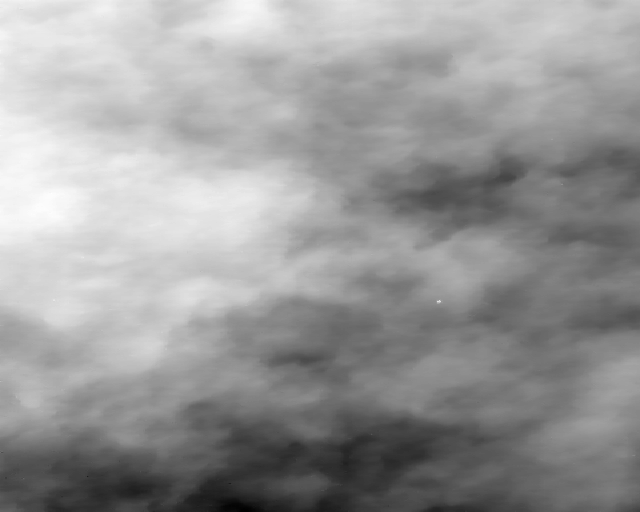Target: (437, 300, 444, 305)
